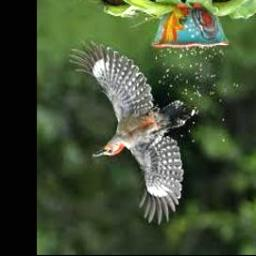Woodpecker: (69, 43, 193, 224)
